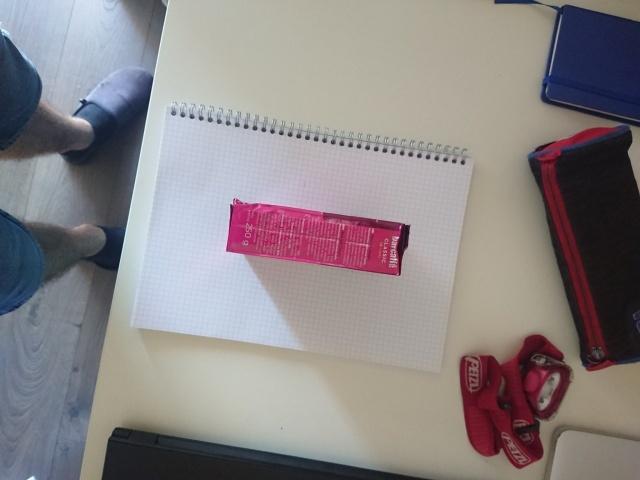Barcaffe Classic Original 225g: (224, 196, 413, 279)
